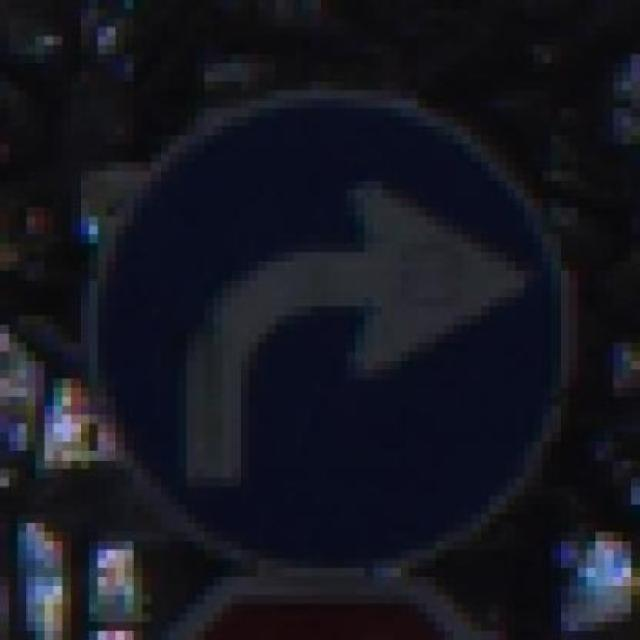Turn right ahead: (44, 72, 587, 586)
